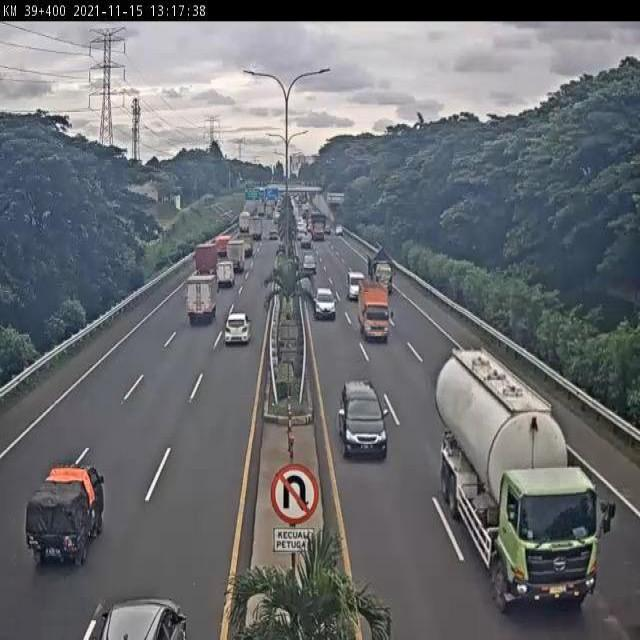car: (336, 380, 389, 460), (224, 313, 252, 348), (314, 285, 336, 319), (347, 271, 367, 300)
truck-m-: (358, 281, 394, 344), (366, 243, 395, 293), (188, 273, 218, 320), (194, 240, 218, 281)
truck-s-: (25, 464, 107, 567), (215, 261, 237, 291)
truck-xl-: (436, 349, 617, 619)
